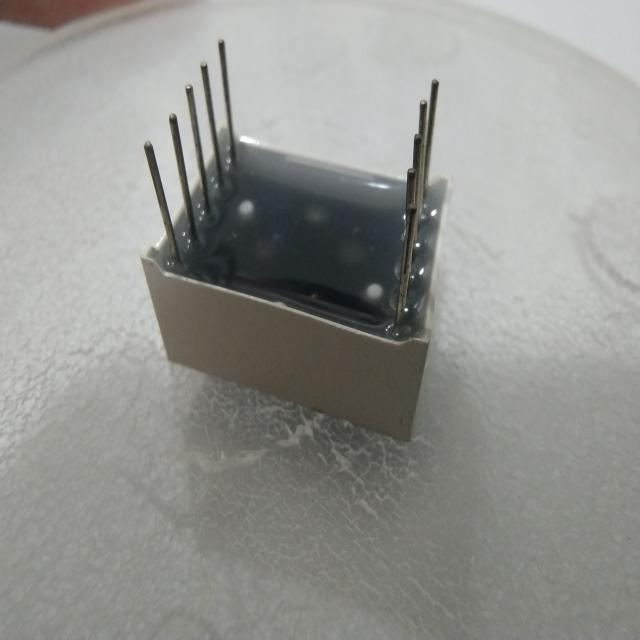7_segments: (118, 30, 458, 461)
